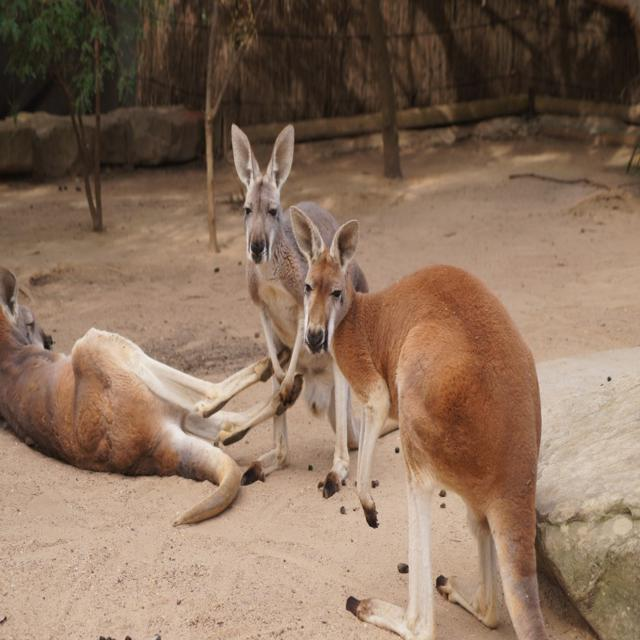kangaroo: (283, 202, 550, 640), (1, 264, 219, 479), (224, 118, 303, 305)
